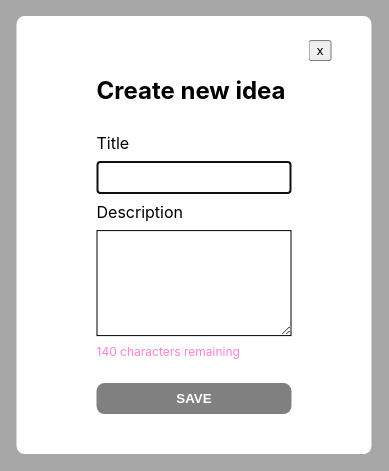
save button is enabled when title and description inputs have values
Type "title value" into the field named "title". click: (194, 177)
box: [96, 161, 292, 194]
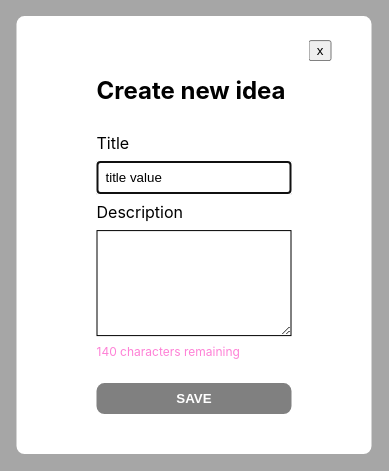
Type "description value" into the text box named "description". click: (194, 283)
box: [96, 230, 292, 336]
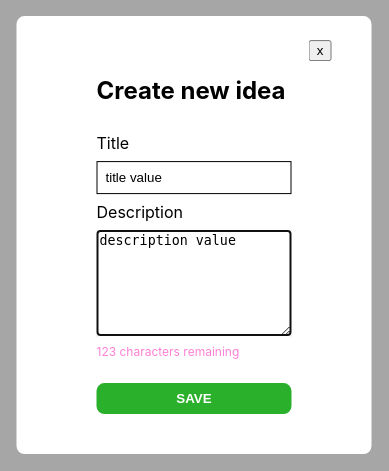
expect the button "save" is enabled: met, box [96, 383, 292, 414]
